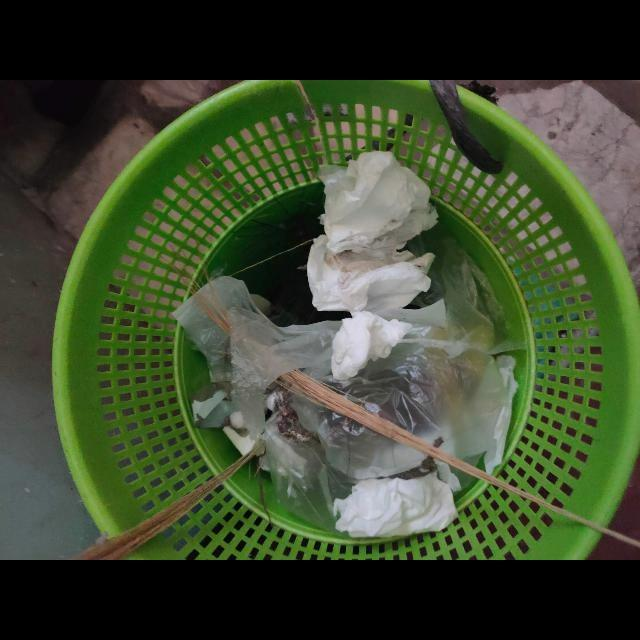paper: (319, 151, 439, 273), (306, 235, 446, 327), (332, 466, 460, 538), (329, 311, 431, 388)
plastic_bag: (175, 267, 519, 533)
